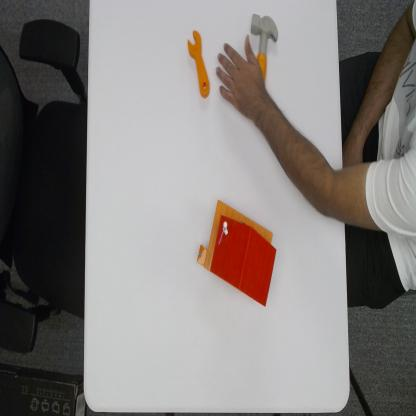Hammer: (250, 12, 279, 82)
Hand: (214, 32, 267, 120)
House: (196, 195, 278, 307)
Screwdriver: (266, 94, 416, 234), (186, 30, 211, 100)
